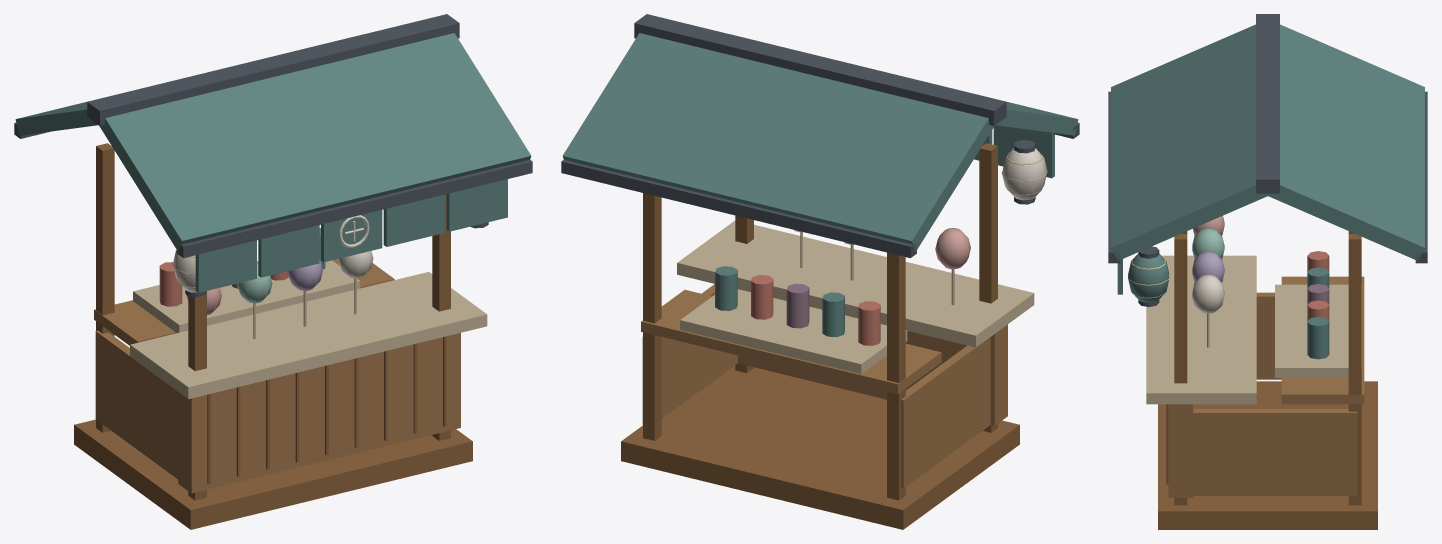
The model's file is komachi-yatai-sweets.glb.
3 renders of one model, left to right at view 1: azimuth 30°, elevation 25°; view 2: azimuth 150°, elevation 25°; view 3: azimuth 270°, elevation 25°, orthographic. The views are drawn at different scales.
Parts seen in each view (by area): view 1: Yatai_Frame_Canopy_And_Stock; view 2: Yatai_Frame_Canopy_And_Stock; view 3: Yatai_Frame_Canopy_And_Stock.
Boxes of the visible parts, box(x1,y1,x2,y2) form: Yatai_Frame_Canopy_And_Stock: box(14, 14, 532, 529); Yatai_Frame_Canopy_And_Stock: box(561, 14, 1079, 529); Yatai_Frame_Canopy_And_Stock: box(1108, 14, 1427, 529).
Size of the model in its own units: 0.855 by 0.886 by 0.696.
